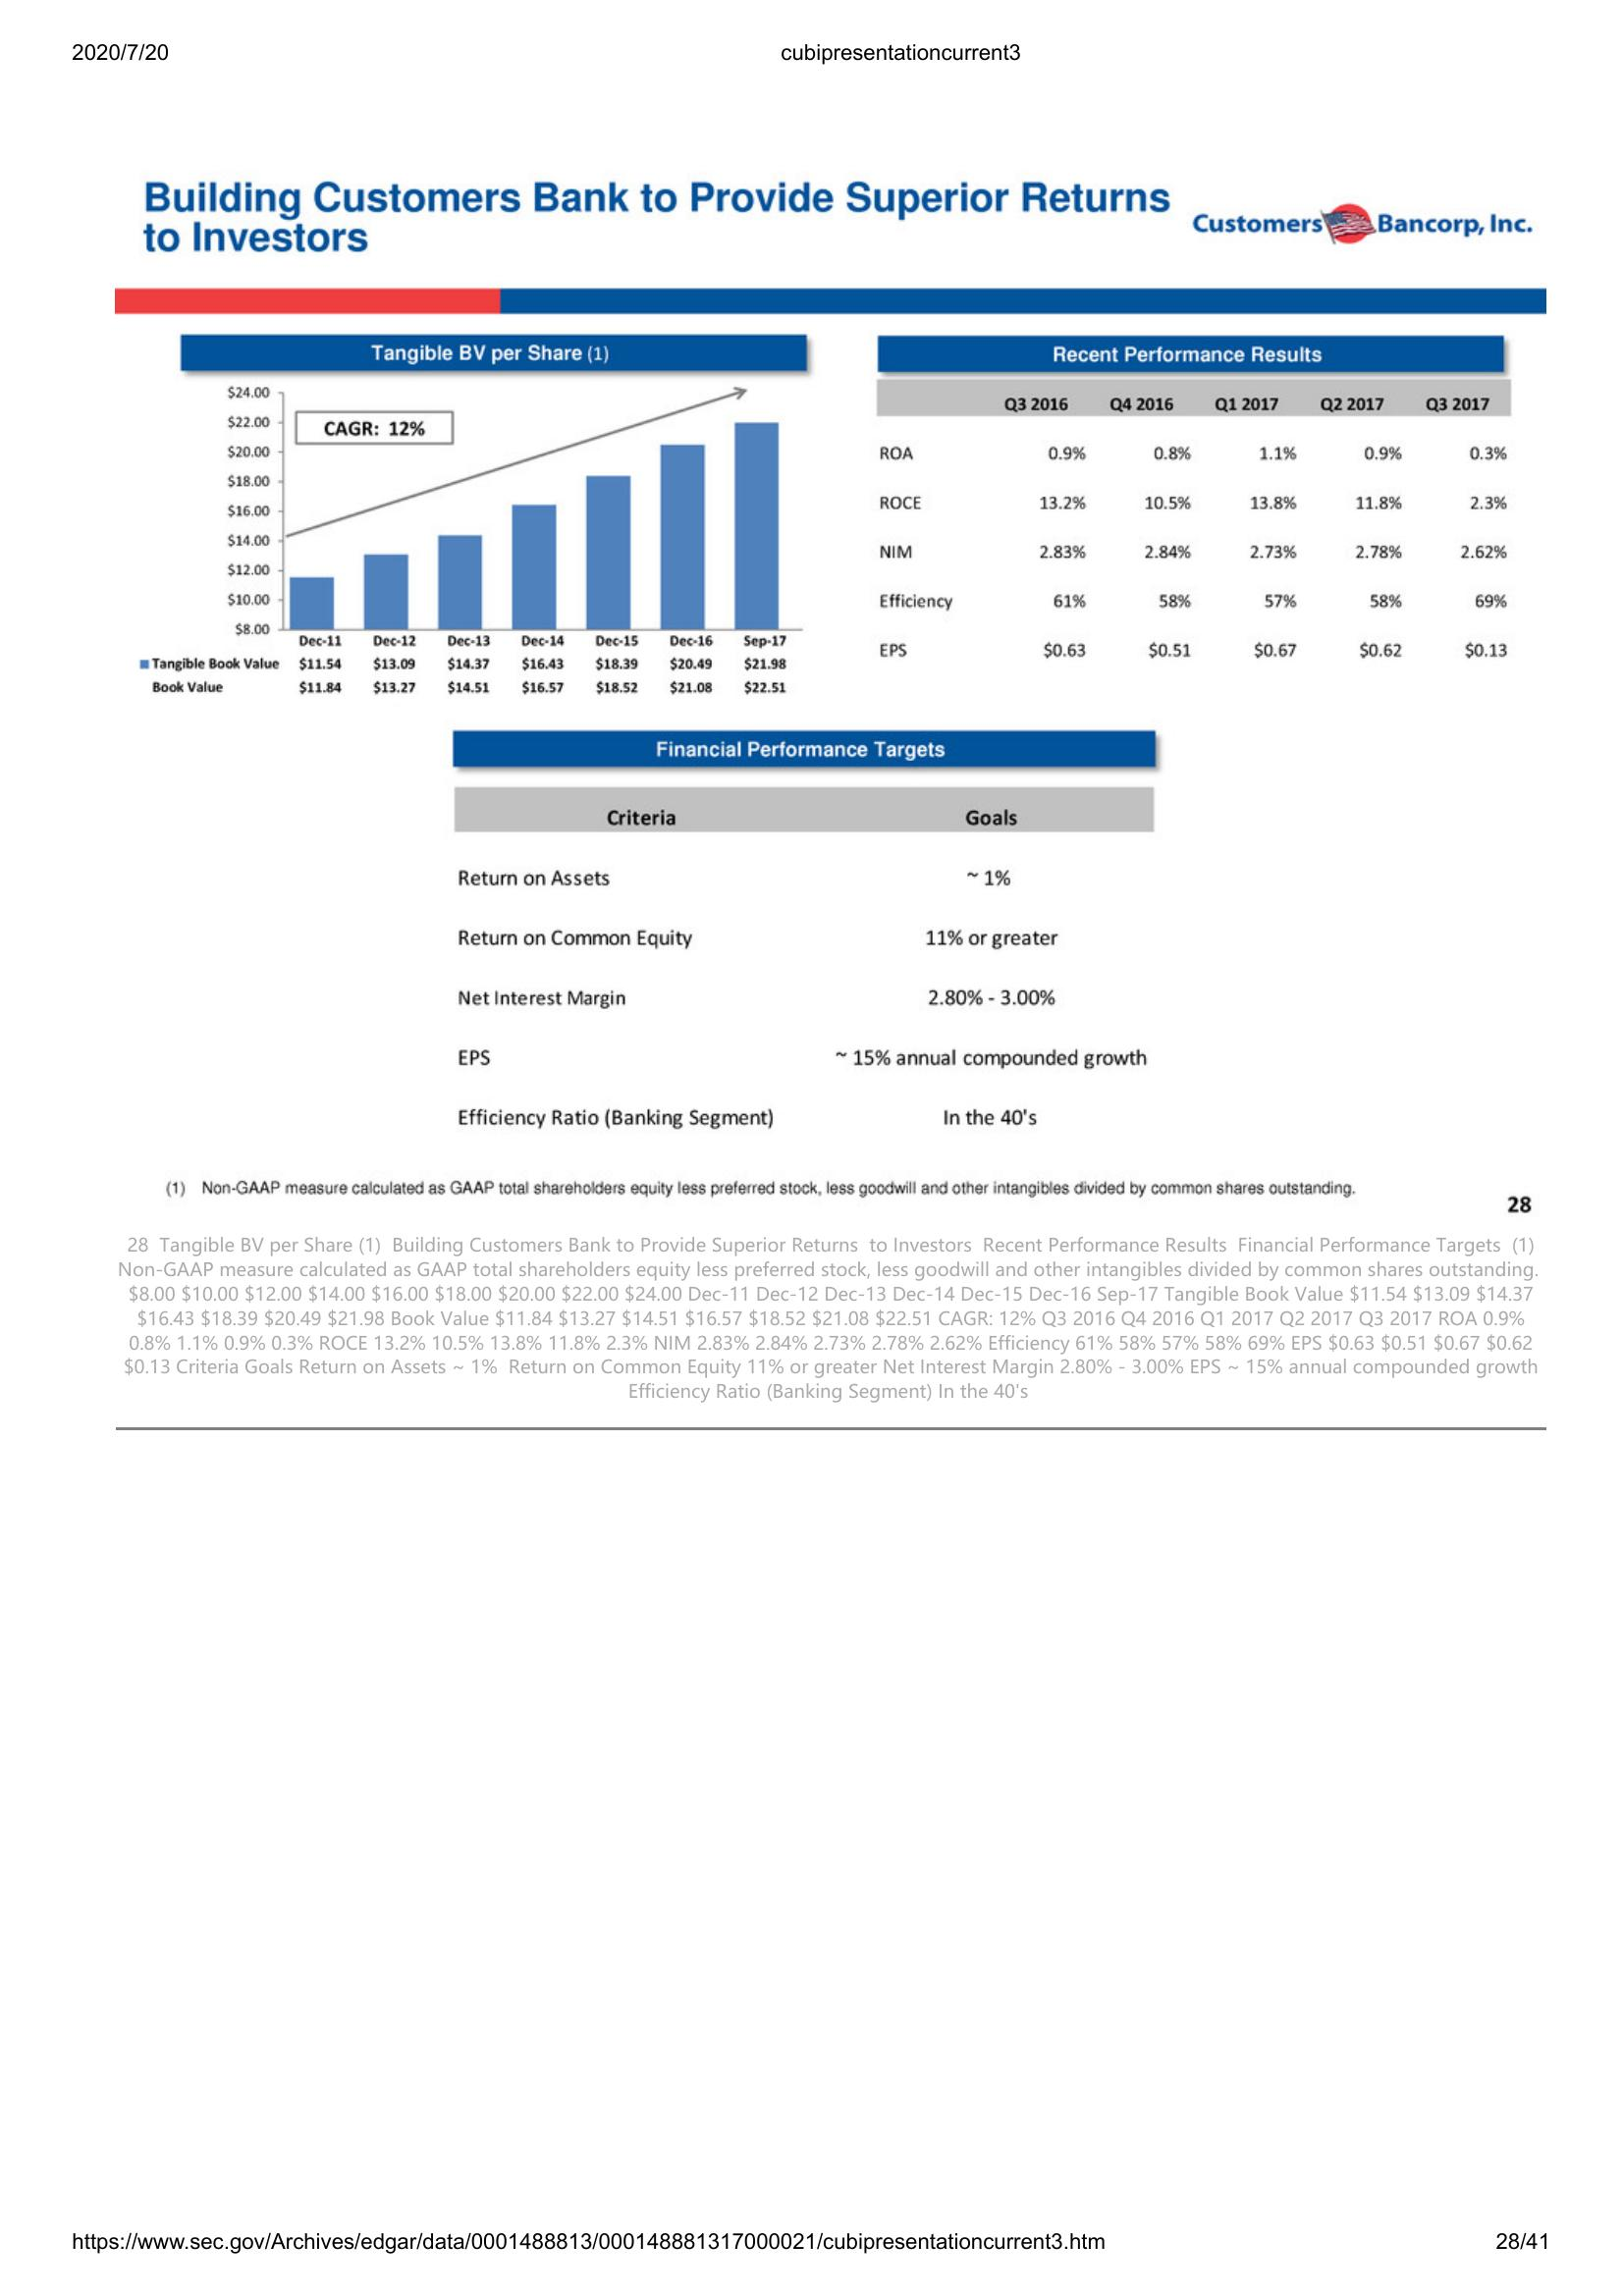table: (446, 723, 1166, 1148), (861, 326, 1526, 665)
